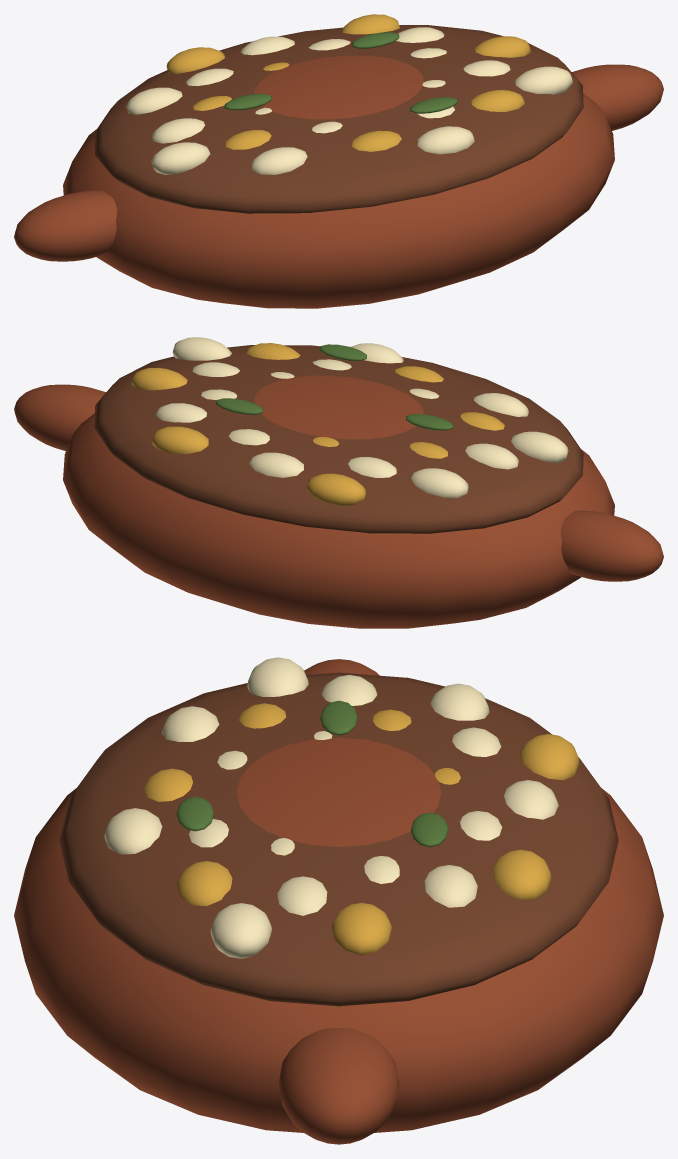
Rendered from food_completo_runtime.glb.
The picture shows the model from 3 angles, top to bottom: view 1: azimuth 30°, elevation 25°; view 2: azimuth 150°, elevation 25°; view 3: azimuth 270°, elevation 25°; orthographic projection. The views are drawn at different scales.
Visible parts, largest first — view 1: Terracotta casserole, Cooked filling, Handle, Handle.001, White bean.025, White bean.026, White bean.023, White bean.020, White bean.027, White bean.022, White bean.021, White bean.017 (+11 smaller); view 2: Terracotta casserole, Cooked filling, Handle, Handle.001, White bean.027, White bean.025, White bean.022, White bean.024, White bean.026, White bean.019, White bean.021, White bean.017 (+13 smaller); view 3: Terracotta casserole, Cooked filling, Handle.001, White bean.026, White bean.021, White bean.024, White bean.027, White bean.023, White bean.018, White bean.025, White bean.016, White bean.022 (+14 smaller).
Part boxes in pixels (<box>): Terracotta casserole: <box>63,55,614,308</box>; Cooked filling: <box>94,25,583,213</box>; Handle: <box>14,190,117,261</box>; Handle.001: <box>572,64,663,130</box>; White bean.025: <box>151,142,210,174</box>; White bean.026: <box>515,66,572,94</box>; White bean.023: <box>417,126,474,154</box>; White bean.020: <box>251,147,307,174</box>; White bean.027: <box>166,47,224,73</box>; White bean.022: <box>126,87,182,114</box>; White bean.021: <box>474,36,530,57</box>; White bean.017: <box>152,118,204,143</box>; Terracotta casserole: <box>63,375,614,628</box>; Cooked filling: <box>94,345,583,533</box>; Handle: <box>560,510,663,581</box>; Handle.001: <box>14,384,105,450</box>; White bean.027: <box>306,473,366,506</box>; White bean.025: <box>511,431,568,463</box>; White bean.022: <box>411,468,468,498</box>; White bean.024: <box>152,426,208,454</box>; White bean.026: <box>172,337,231,360</box>; White bean.019: <box>249,452,303,477</box>; White bean.021: <box>131,367,187,390</box>; White bean.017: <box>465,443,518,469</box>; Terracotta casserole: <box>14,737,663,1132</box>; Cooked filling: <box>59,672,618,1006</box>; Handle.001: <box>278,1028,399,1144</box>; White bean.026: <box>210,903,271,958</box>; White bean.021: <box>331,902,391,955</box>; White bean.024: <box>492,849,551,899</box>; White bean.027: <box>519,734,579,780</box>; White bean.023: <box>104,808,162,854</box>; White bean.018: <box>176,861,232,906</box>; White bean.025: <box>247,657,308,696</box>; White bean.016: <box>424,865,477,907</box>; White bean.022: <box>430,683,489,720</box>.
Size of the model in its own units: 1.42 by 0.393 by 0.86.
